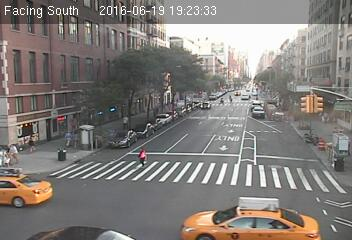neg: (234, 183, 256, 212), (277, 169, 298, 198), (194, 181, 215, 209), (84, 58, 101, 82), (149, 171, 166, 194), (213, 22, 230, 44), (57, 40, 74, 62), (19, 50, 35, 72), (262, 70, 278, 92), (16, 9, 32, 30), (119, 39, 134, 58), (264, 122, 278, 142), (314, 34, 328, 53), (182, 144, 196, 162), (286, 17, 300, 35), (316, 74, 330, 92), (259, 41, 272, 59), (154, 63, 167, 81), (12, 87, 25, 105), (85, 163, 97, 180), (105, 165, 117, 182), (120, 73, 132, 90), (228, 157, 240, 173), (205, 151, 217, 167), (98, 5, 110, 21), (41, 178, 53, 193), (174, 36, 186, 51), (322, 147, 333, 163), (242, 126, 253, 141), (118, 193, 129, 208), (295, 60, 306, 75), (67, 198, 77, 212), (207, 116, 217, 129), (39, 93, 49, 105), (289, 144, 299, 156), (286, 117, 295, 129), (143, 12, 152, 24), (191, 110, 200, 121), (170, 110, 178, 122)
pos: (59, 127, 76, 151), (6, 138, 23, 161), (135, 147, 150, 167), (23, 132, 37, 150), (120, 113, 131, 128), (227, 92, 236, 103), (217, 95, 225, 105)
